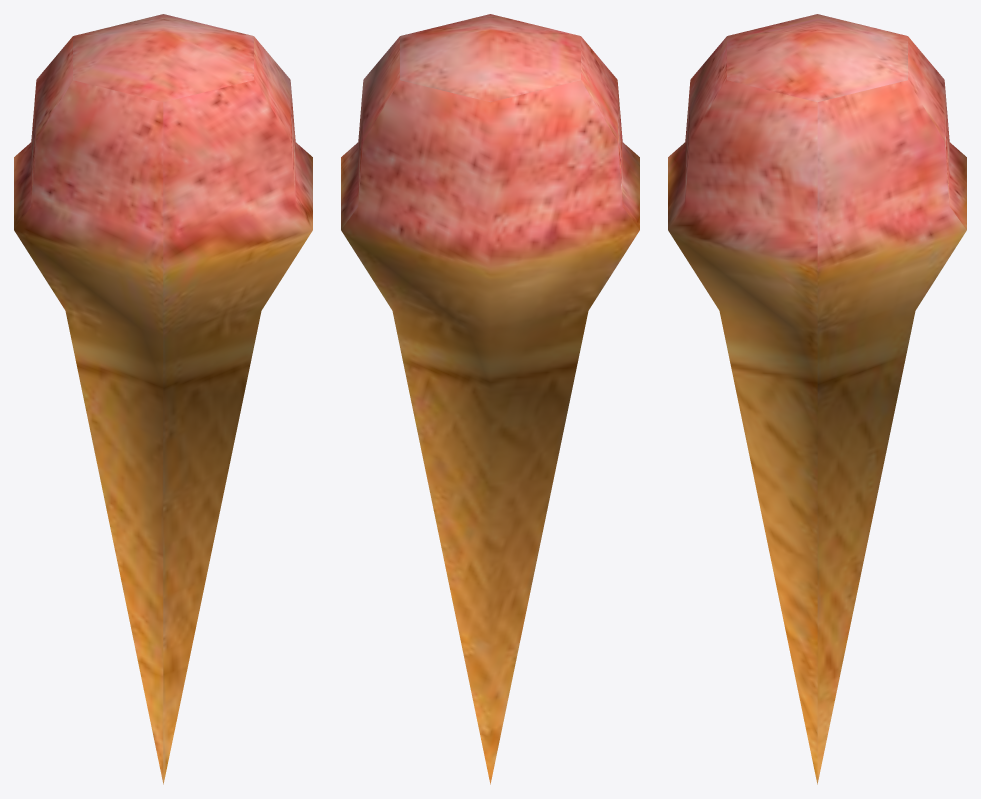
Rendered from Frozen_01.glb.
3 renders of one model, left to right at view 1: azimuth 30°, elevation 25°; view 2: azimuth 150°, elevation 25°; view 3: azimuth 270°, elevation 25°, orthographic.
Parts seen in each view (by area): view 1: Frozen_01; view 2: Frozen_01; view 3: Frozen_01.
Boxes of the visible parts, x1,y1,x2,y2 form: Frozen_01: (14,14,312,784); Frozen_01: (341,14,639,784); Frozen_01: (668,14,966,784).
Bounding box in the file's own units: 0.082 × 0.1971 × 0.071.
Materials: 1 (1 with a texture image).
